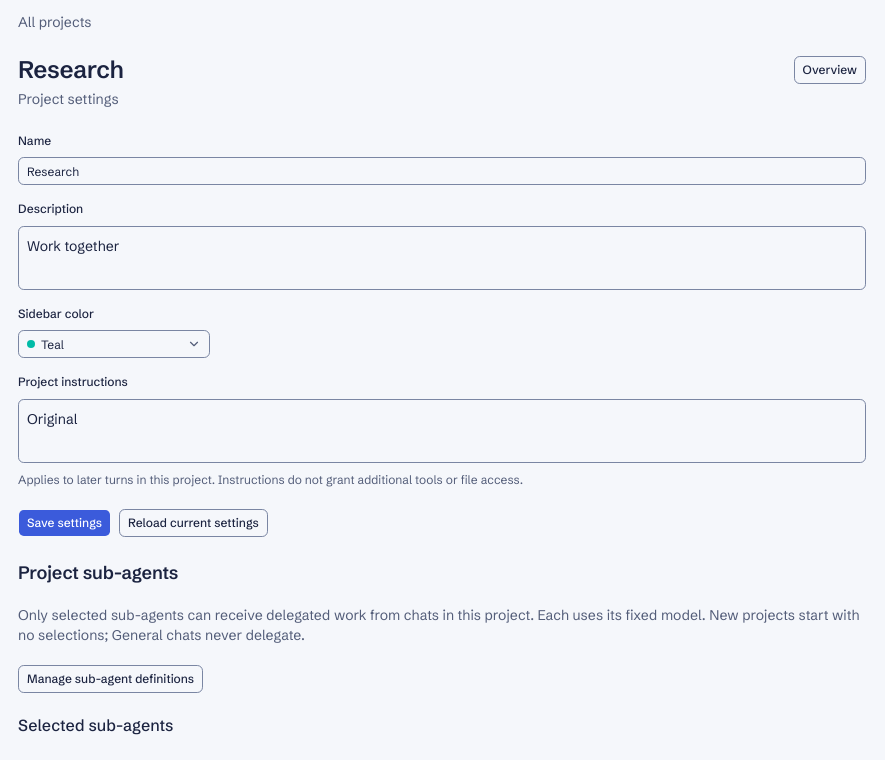
Scenario: keeps the editing revision across refresh, then explicitly reloads after conflict
Step 1. Replace the text in the text box labelled "Project instructions" with "My draft" → (442, 431), box [18,399,866,463]
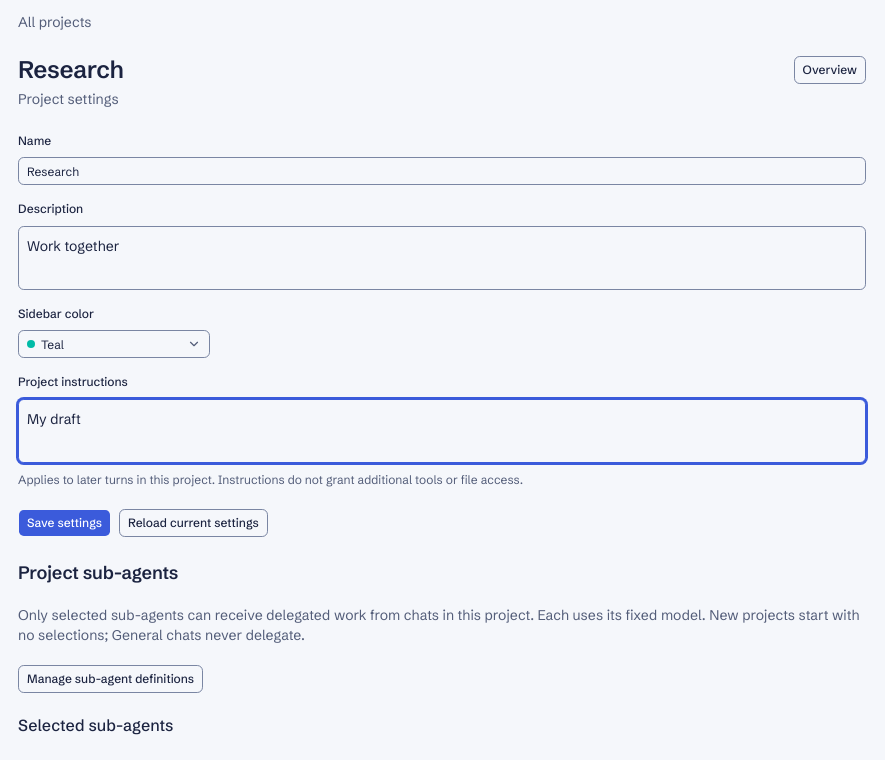
Step 2. Click the button "Save settings" → (64, 523), box [18,509,111,537]
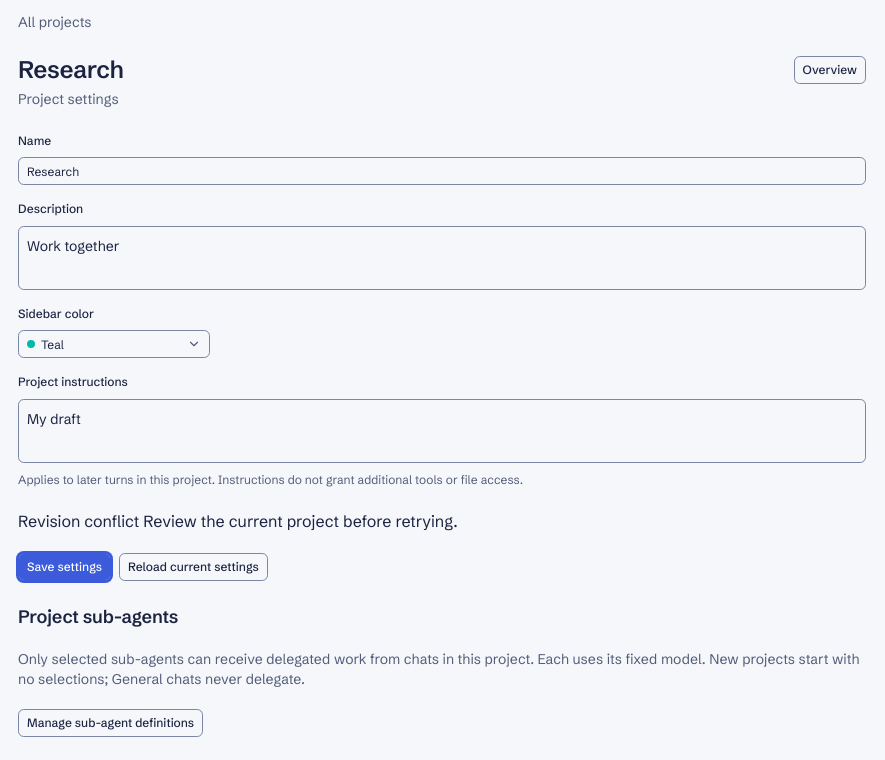
Expected: the message shows "Revision conflict", [18,511,139,531]
Step 3. Click the button "Reload current settings" → (193, 567), box [119,553,268,581]
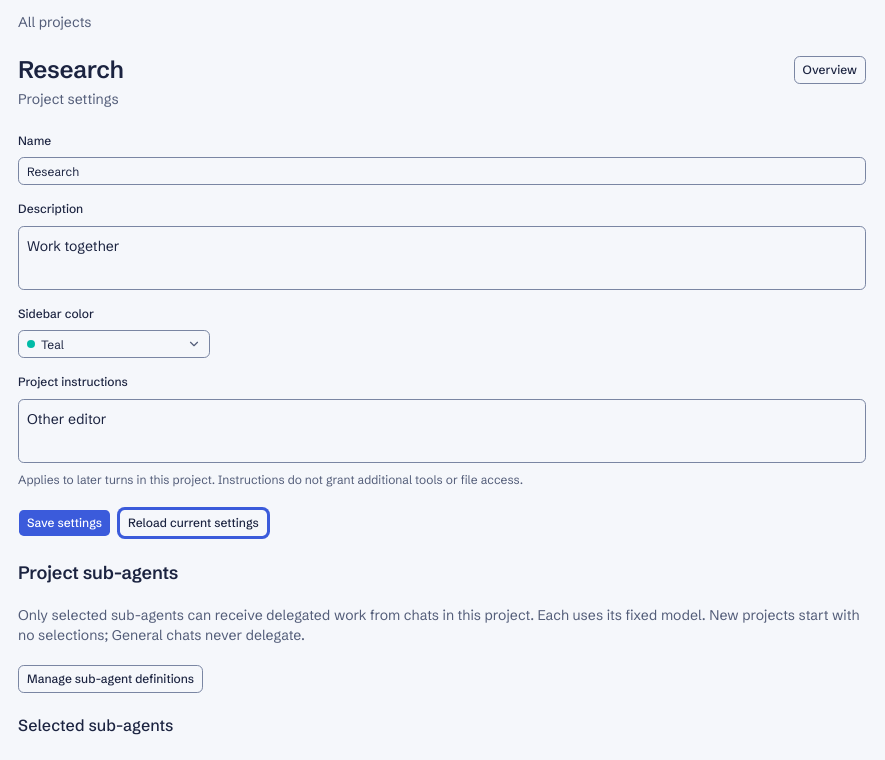
Expected: the text box labelled "Project instructions" holds "Other editor"
Step 4. Replace the text in the text box labelled "Project instructions" with "Final" → (442, 431), box [18,399,866,463]
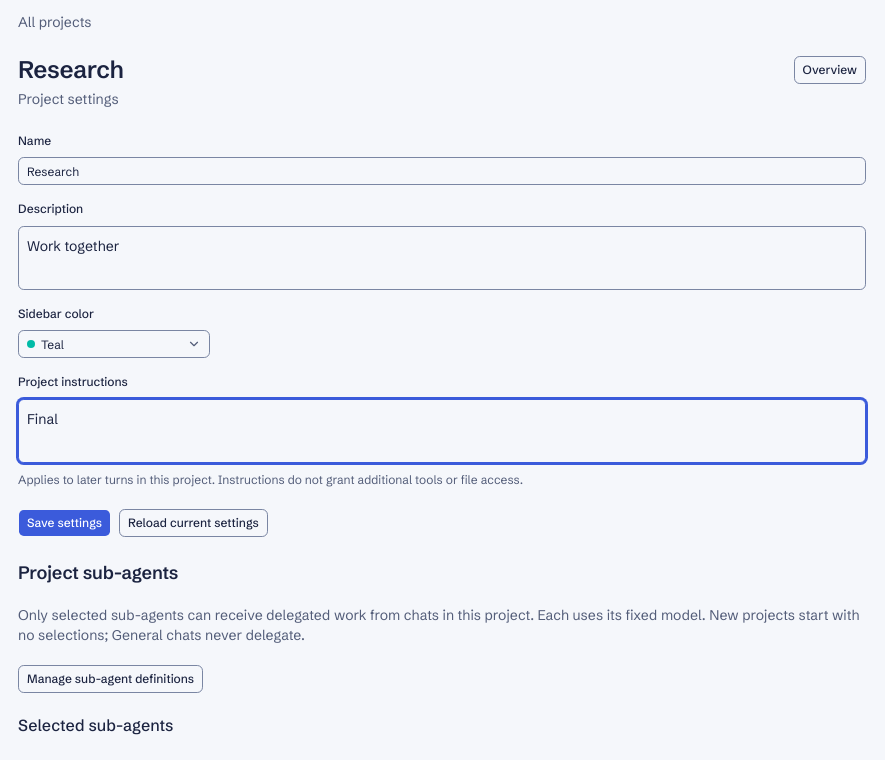
Step 5. Click the button "Save settings" → (64, 523), box [18,509,111,537]
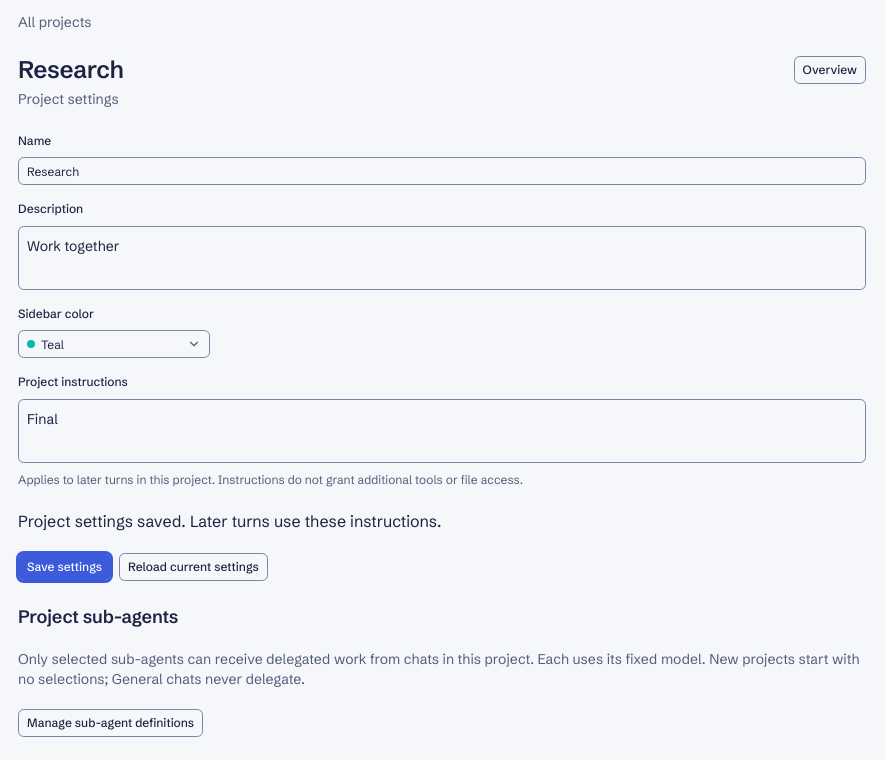
Expected: the message shows "settings saved", [18,511,441,531]
